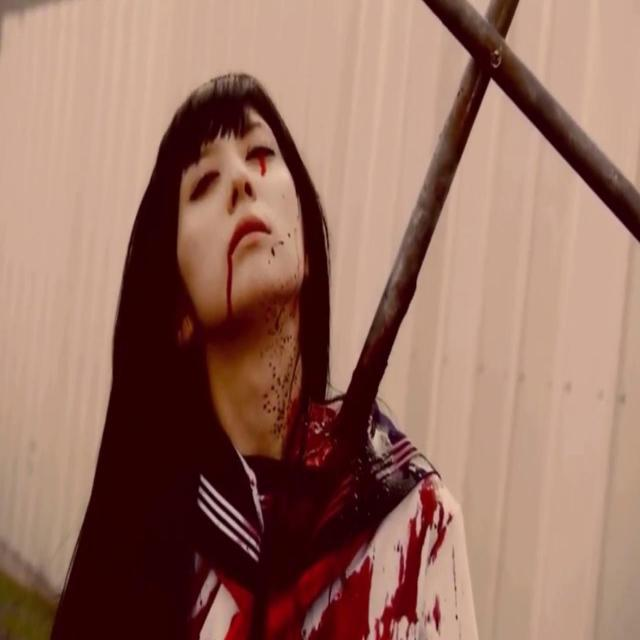flood: (256, 355, 442, 640), (208, 246, 245, 322), (256, 146, 270, 178)
